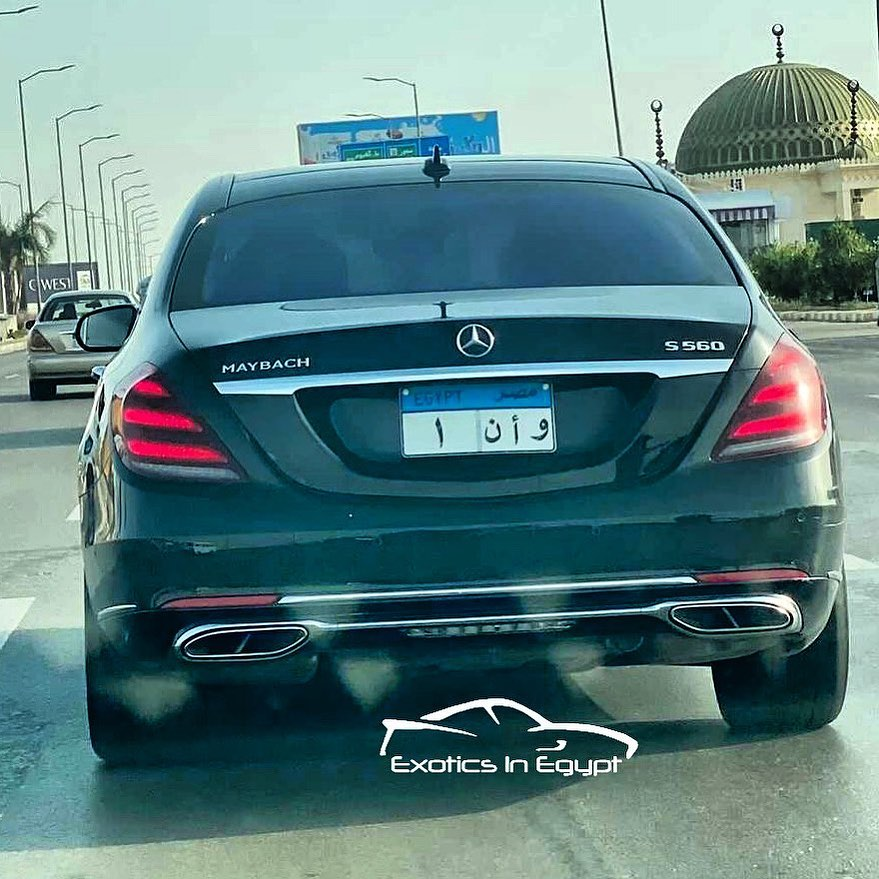carpl: (395, 379, 553, 452)
